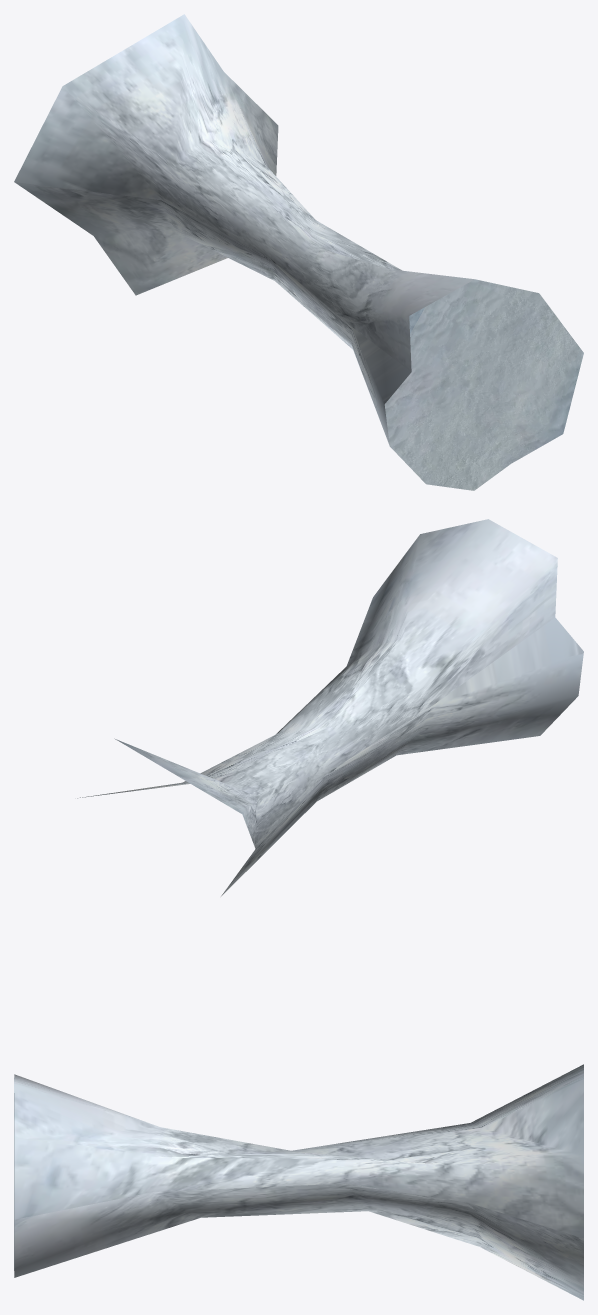
3 renders of one model, top to bottom at view 1: azimuth 30°, elevation 25°; view 2: azimuth 150°, elevation 25°; view 3: azimuth 270°, elevation 25°, orthographic. The views are drawn at different scales.
Visible parts, largest first — view 1: model_Object10; view 2: model_Object10; view 3: model_Object10.
Boxes of the visible parts, bbox=[...] form: model_Object10: bbox=[14, 14, 583, 490]; model_Object10: bbox=[77, 519, 583, 896]; model_Object10: bbox=[14, 1064, 583, 1300].
Bounding box in the file's own units: 2.25 × 2.19 × 4.76.
Materials: 2 (2 with a texture image).
